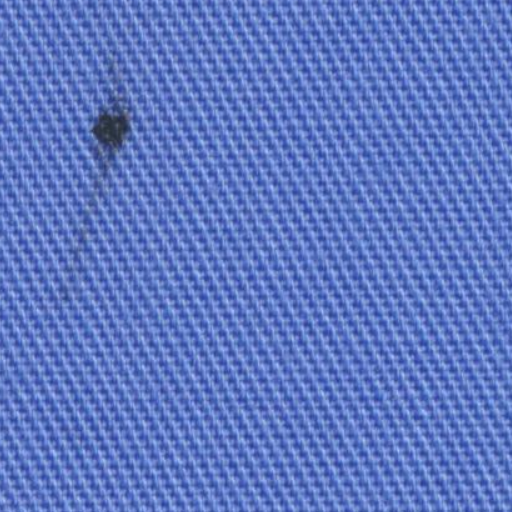WuZi: (48, 50, 153, 298)
